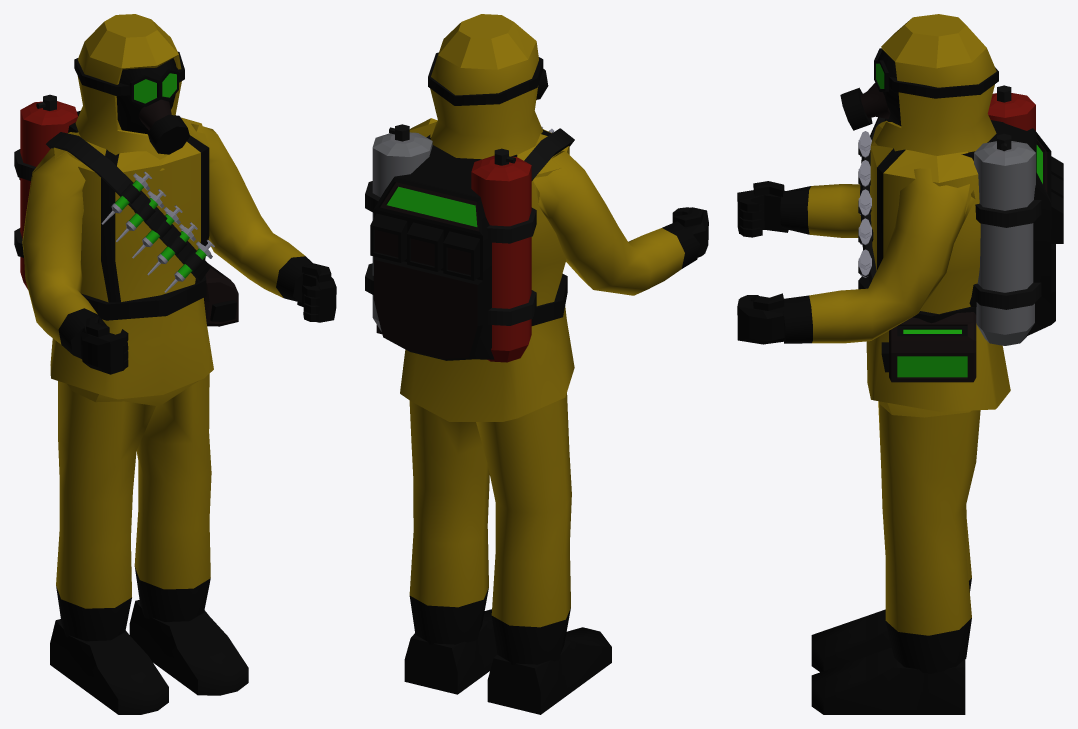
The model's file is WALK.FBX.
3 views of the same model, side by side, from view 1: azimuth 30°, elevation 25°; view 2: azimuth 150°, elevation 25°; view 3: azimuth 270°, elevation 25° (orthographic). The views are drawn at different scales.
Parts seen in each view (by area): view 1: Cylinder001; view 2: Cylinder001; view 3: Cylinder001.
Boxes of the visible parts, bbox=[...] form: Cylinder001: bbox=[14, 14, 336, 714]; Cylinder001: bbox=[365, 14, 708, 714]; Cylinder001: bbox=[737, 14, 1063, 714].
Bounding box in the file's own units: 82.03 × 193 × 86.64.
